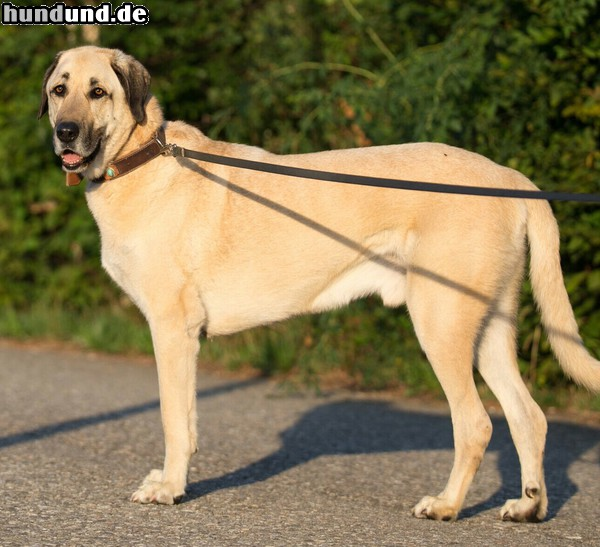kangal: (37, 45, 600, 521)
